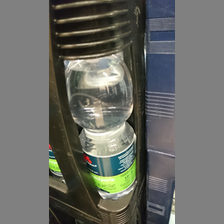water: (64, 57, 132, 200)
